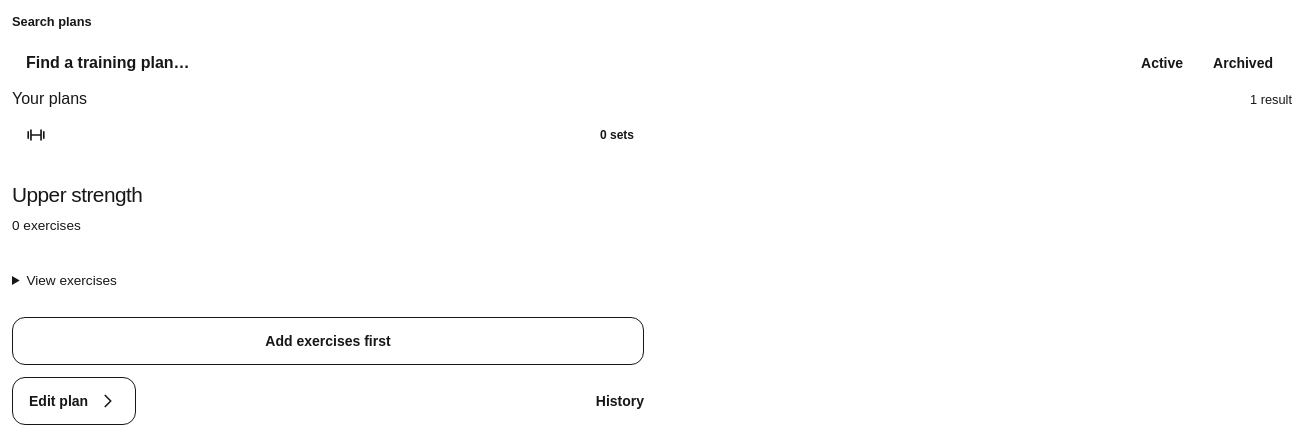
Test: V2 library › links active and archived plans to their v2 plan page
Check: the heading "Previous routine" is not shown
Click the button "Archived" at [1243, 63], box [1198,43,1288,83]
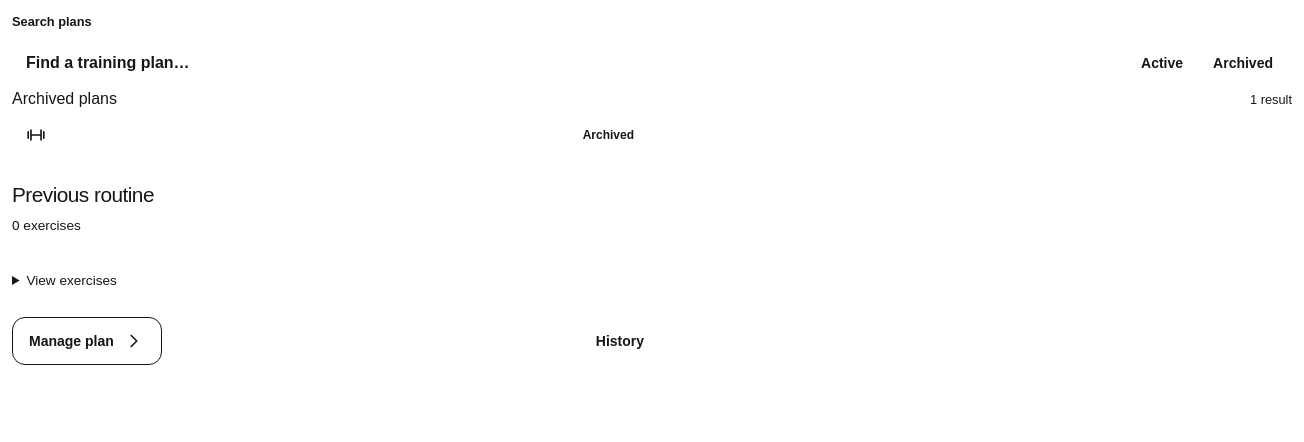
Check: the link "Edit plan" is gone
